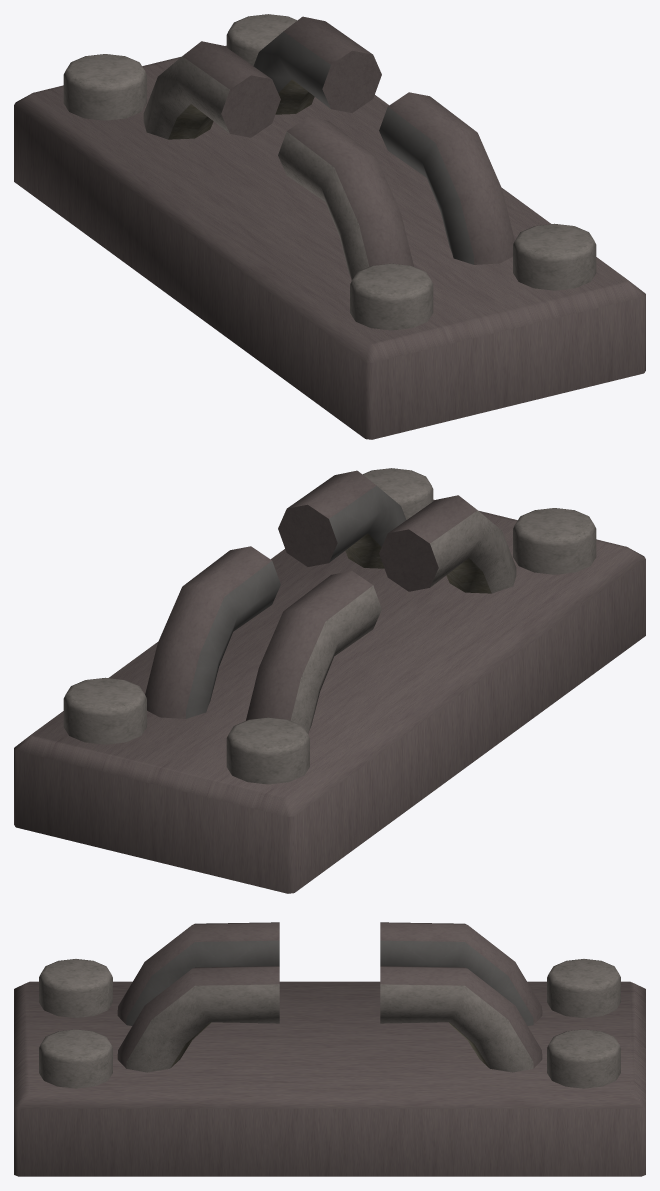
File: Rails_4.fbx
The picture shows the model from 3 angles, top to bottom: view 1: azimuth 30°, elevation 25°; view 2: azimuth 150°, elevation 25°; view 3: azimuth 270°, elevation 25°; orthographic projection. The views are drawn at different scales.
Visible parts, largest first — view 1: Rails_4; view 2: Rails_4; view 3: Rails_4.
Boxes of the visible parts, bbox=[...] form: Rails_4: bbox=[14, 14, 645, 439]; Rails_4: bbox=[14, 468, 645, 893]; Rails_4: bbox=[14, 922, 645, 1176].
Size of the model in its own units: 0.28 by 0.1835 by 0.616.
